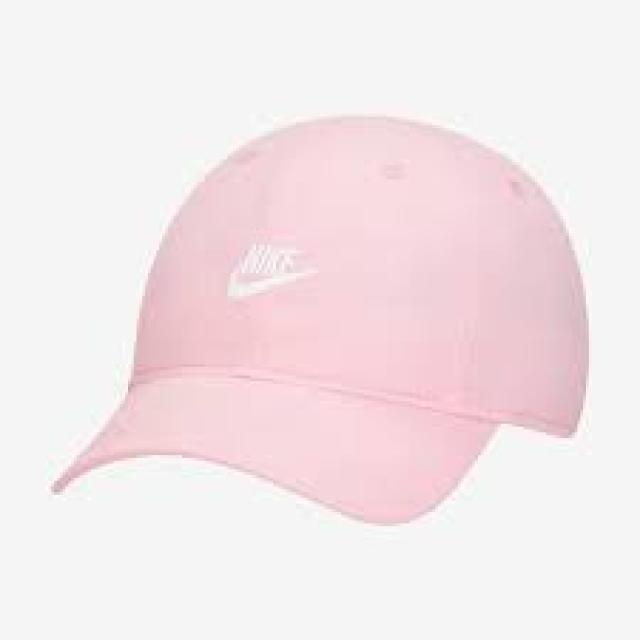cap: (29, 90, 609, 550)
